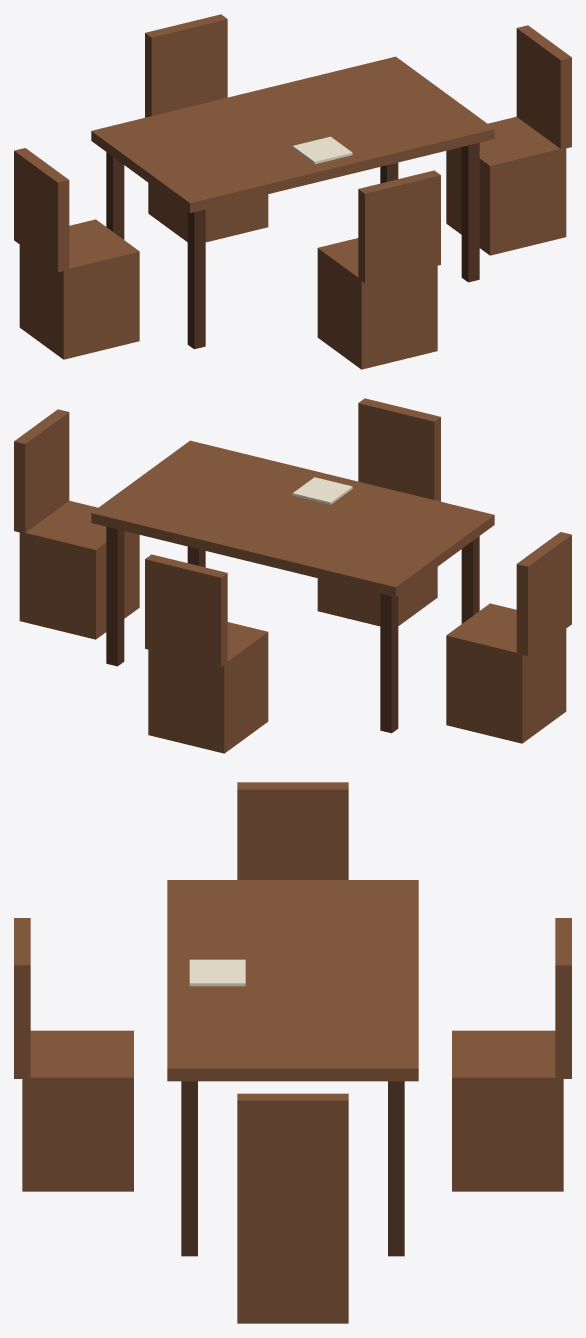
The model's file is firehouse_table.glb.
3 views of the same model, one above another, from view 1: azimuth 30°, elevation 25°; view 2: azimuth 150°, elevation 25°; view 3: azimuth 270°, elevation 25° (orthographic). The views are drawn at different scales.
Parts seen in each view (by area): view 1: Box1, Box12, Box10, Box6, Box7, Box9, Box13, Box11, Box8, Box3, Box5, Box2 (+1 smaller); view 2: Box1, Box12, Box10, Box8, Box9, Box7, Box13, Box11, Box6, Box2, Box4, Box3 (+1 smaller); view 3: Box1, Box6, Box8, Box11, Box10, Box13, Box4, Box5, Box7, Box9, Box14.
Part boxes in pixels (left/top/right/bottom): Box1: left=91, top=56, right=494, bottom=213; Box12: left=19, top=219, right=139, bottom=359; Box10: left=446, top=116, right=566, bottom=255; Box6: left=317, top=238, right=437, bottom=369; Box7: left=358, top=170, right=440, bottom=283; Box9: left=145, top=14, right=227, bottom=117; Box13: left=14, top=148, right=69, bottom=272; Box11: left=516, top=25, right=571, bottom=148; Box8: left=148, top=183, right=268, bottom=242; Box3: left=187, top=209, right=205, bottom=349; Box5: left=461, top=142, right=479, bottom=282; Box2: left=106, top=152, right=124, bottom=239; Box1: left=91, top=440, right=494, bottom=597; Box12: left=446, top=603, right=566, bottom=743; Box10: left=19, top=500, right=139, bottom=639; Box8: left=148, top=622, right=268, bottom=753; Box9: left=145, top=554, right=227, bottom=667; Box7: left=358, top=398, right=440, bottom=501; Box13: left=516, top=532, right=571, bottom=656; Box11: left=14, top=409, right=69, bottom=533; Box6: left=317, top=567, right=437, bottom=626; Box2: left=380, top=593, right=398, bottom=733; Box4: left=106, top=526, right=124, bottom=666; Box3: left=461, top=536, right=479, bottom=623; Box1: left=167, top=880, right=418, bottom=1081; Box6: left=22, top=1030, right=133, bottom=1191; Box8: left=452, top=1030, right=563, bottom=1191; Box11: left=237, top=1093, right=348, bottom=1214; Box10: left=237, top=1214, right=348, bottom=1323; Box13: left=237, top=782, right=348, bottom=879; Box4: left=388, top=1081, right=404, bottom=1256; Box5: left=181, top=1081, right=197, bottom=1256; Box7: left=14, top=918, right=30, bottom=1078; Box9: left=555, top=918, right=571, bottom=1078; Box14: left=189, top=959, right=245, bottom=986.
Size of the model in its own units: 2.7 by 0.895 by 2.
